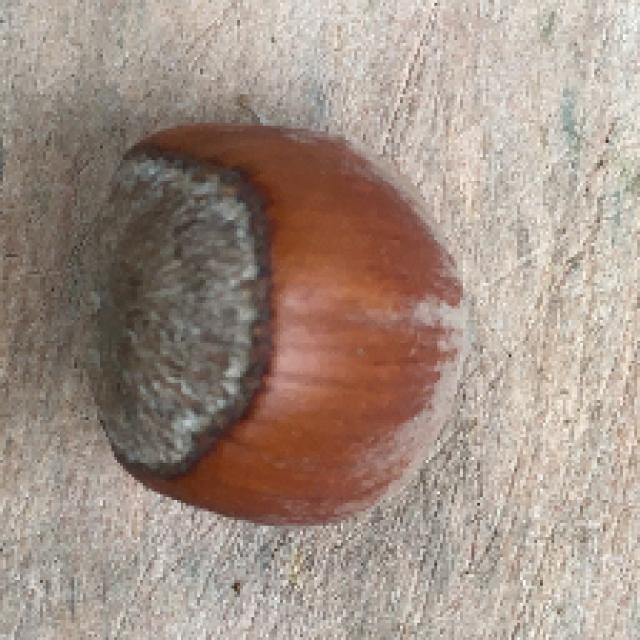qualityHazelnut: (82, 115, 473, 530)
